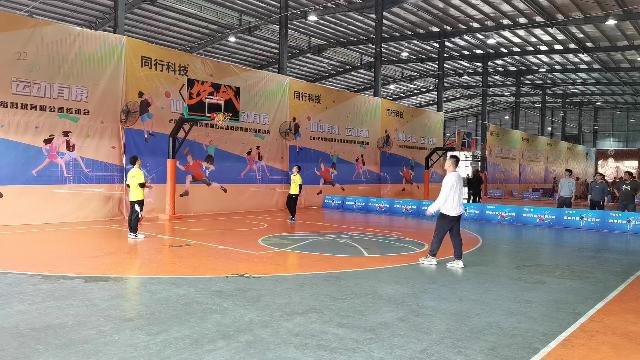goal: (216, 112, 226, 122)
